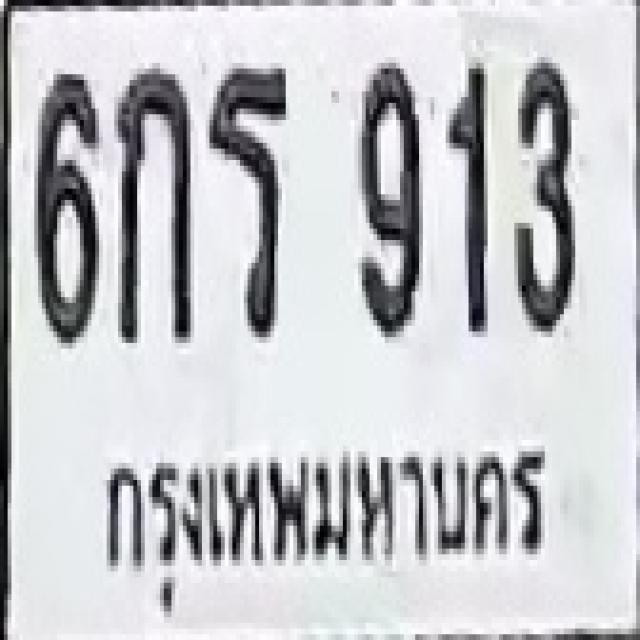1: (446, 60, 488, 334)
3: (508, 54, 574, 329)
6: (34, 68, 99, 343)
9: (354, 57, 419, 332)
A01: (114, 63, 190, 343)
A35: (208, 63, 288, 331)
BKK: (90, 432, 546, 620)
